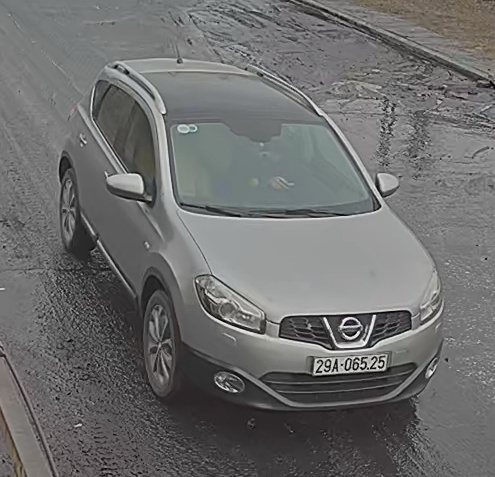vehicle plate: (304, 347, 394, 377)
